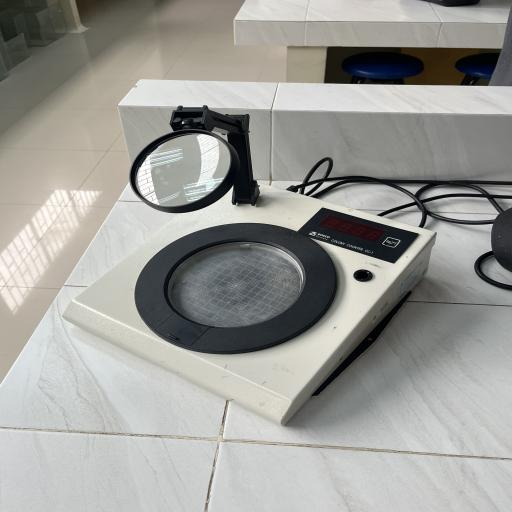Contador_Colonias_CC1: (54, 96, 451, 439)
